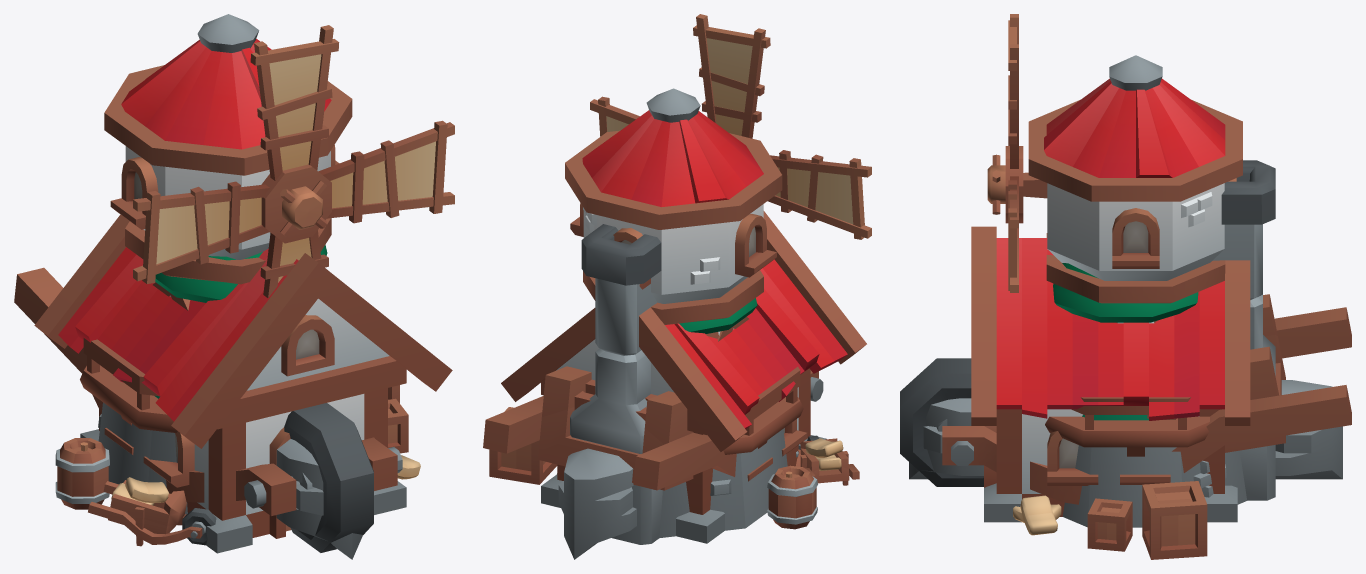
File: meadow-diorama.glb
The picture shows the model from 3 angles, left to right: view 1: azimuth 30°, elevation 25°; view 2: azimuth 150°, elevation 25°; view 3: azimuth 270°, elevation 25°; orthographic projection. The views are drawn at different scales.
Parts seen in each view (by area): view 1: building_home_A_red, building_windmill_top_fan_red, building_windmill_top_red, building_windmill_red, wheelbarrow, fence_stone_straight, tree_single_B; view 2: building_home_A_red, building_windmill_top_red, building_windmill_red, building_windmill_top_fan_red, wheelbarrow, fence_stone_straight, tree_single_B; view 3: building_home_A_red, building_windmill_top_red, building_windmill_red, wheelbarrow, fence_stone_straight, building_windmill_top_fan_red, tree_single_B.
Part boxes in pixels (box(x1,y1,x2,y2)): building_home_A_red: box(34, 214, 452, 553); building_windmill_top_fan_red: box(133, 25, 454, 297); building_windmill_top_red: box(104, 14, 352, 284); building_windmill_red: box(55, 295, 420, 546); wheelbarrow: box(14, 267, 402, 552); fence_stone_straight: box(276, 439, 362, 559); tree_single_B: box(154, 245, 327, 398); building_home_A_red: box(501, 211, 866, 544); building_windmill_top_red: box(565, 88, 782, 324); building_windmill_red: box(489, 328, 859, 538); building_windmill_top_fan_red: box(590, 14, 871, 239); wheelbarrow: box(483, 366, 823, 490); fence_stone_straight: box(558, 448, 636, 559); tree_single_B: box(679, 298, 757, 333); building_home_A_red: box(971, 160, 1275, 522); building_windmill_top_red: box(1023, 55, 1242, 303); building_windmill_red: box(1013, 320, 1247, 559); wheelbarrow: box(900, 294, 1351, 504); fence_stone_straight: box(909, 380, 1342, 479); building_windmill_top_fan_red: box(987, 14, 1023, 292); tree_single_B: box(1053, 263, 1198, 420).
Bounding box in the file's own units: 0.3398 × 0.44 × 0.4026.
Materials: 4 (2 with a texture image).
